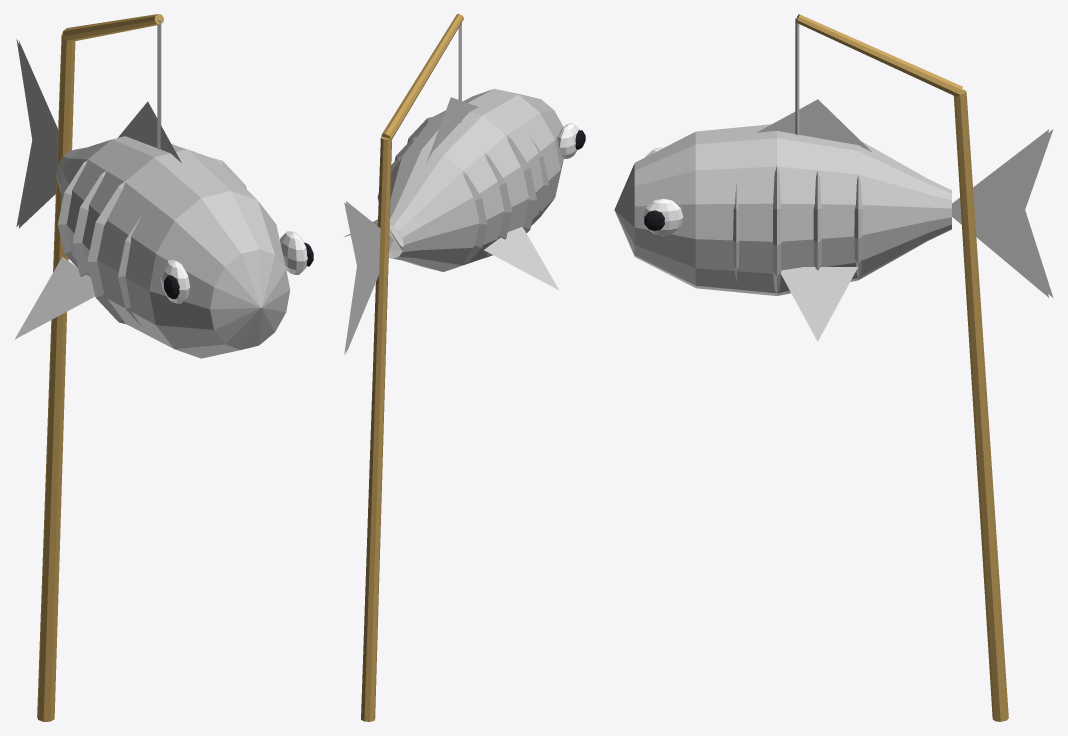
Rendered from ev_lantern_fish_v01.glb.
3 views of the same model, side by side, from view 1: azimuth 30°, elevation 25°; view 2: azimuth 150°, elevation 25°; view 3: azimuth 270°, elevation 25° (orthographic). The views are drawn at different scales.
Visible parts, largest first — view 1: lantern_fish; view 2: lantern_fish; view 3: lantern_fish.
Boxes of the visible parts, <box> form: lantern_fish: <box>14,14,313,721</box>; lantern_fish: <box>344,14,585,721</box>; lantern_fish: <box>614,14,1053,721</box>.
Bounding box in the file's own units: 0.68 × 1.91 × 1.08.
